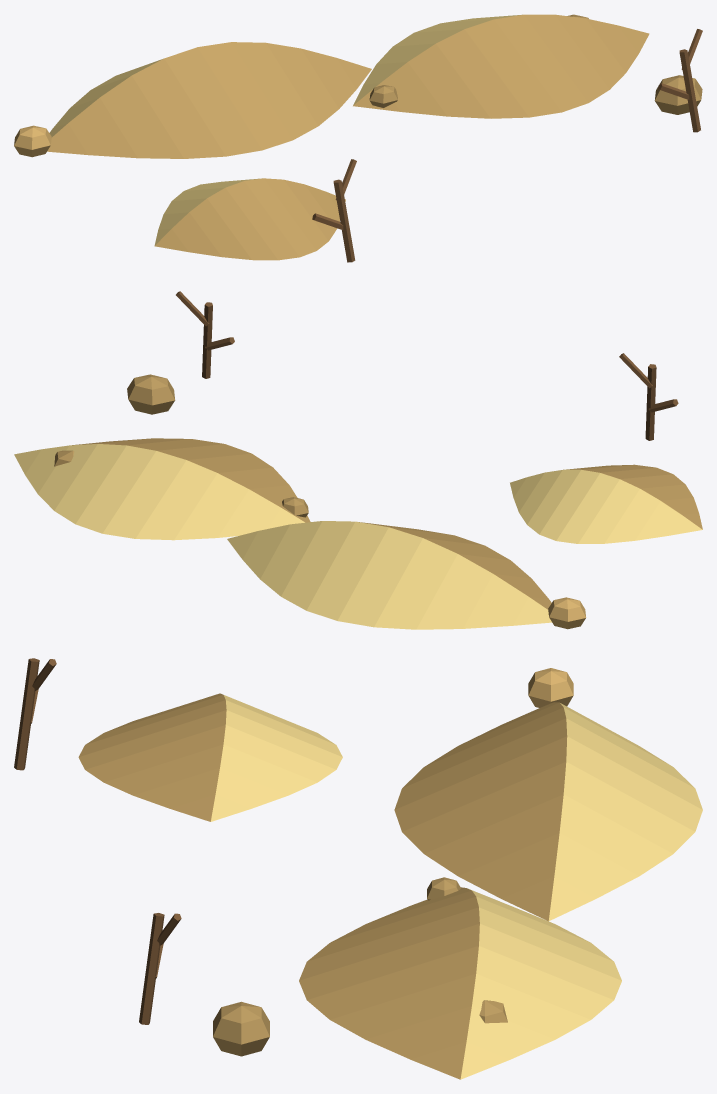
Rendered from terrain-desert-0.glb.
3 renders of one model, top to bottom at view 1: azimuth 30°, elevation 25°; view 2: azimuth 150°, elevation 25°; view 3: azimuth 270°, elevation 25°, orthographic. The views are drawn at different scales.
Visible parts, largest first — view 1: terrain-desert-0.001, terrain-desert-0, terrain-desert-0.002, terrain-desert-0.003, terrain-desert-0.004; view 2: terrain-desert-0, terrain-desert-0.001, terrain-desert-0.002, terrain-desert-0.003, terrain-desert-0.004; view 3: terrain-desert-0.001, terrain-desert-0, terrain-desert-0.003, terrain-desert-0.002, terrain-desert-0.004.
Boxes of the visible parts, x1=… form: terrain-desert-0.001: x1=47, y1=14, x2=649, y2=260; terrain-desert-0: x1=49, y1=14, x2=522, y2=245; terrain-desert-0.002: x1=312, y1=29, x2=702, y2=262; terrain-desert-0.003: x1=369, y1=14, x2=702, y2=114; terrain-desert-0.004: x1=14, y1=125, x2=51, y2=157; terrain-desert-0: x1=14, y1=444, x2=702, y2=629; terrain-desert-0.001: x1=72, y1=438, x2=702, y2=609; terrain-desert-0.002: x1=176, y1=291, x2=678, y2=440; terrain-desert-0.003: x1=54, y1=374, x2=308, y2=517; terrain-desert-0.004: x1=548, y1=597, x2=586, y2=629; terrain-desert-0.001: x1=78, y1=693, x2=567, y2=1079; terrain-desert-0: x1=210, y1=695, x2=702, y2=1079; terrain-desert-0.003: x1=213, y1=877, x2=507, y2=1056; terrain-desert-0.002: x1=14, y1=658, x2=181, y2=1024; terrain-desert-0.004: x1=528, y1=668, x2=573, y2=707.
Bounding box in the file's own units: 1.26 × 0.2048 × 0.9377.
